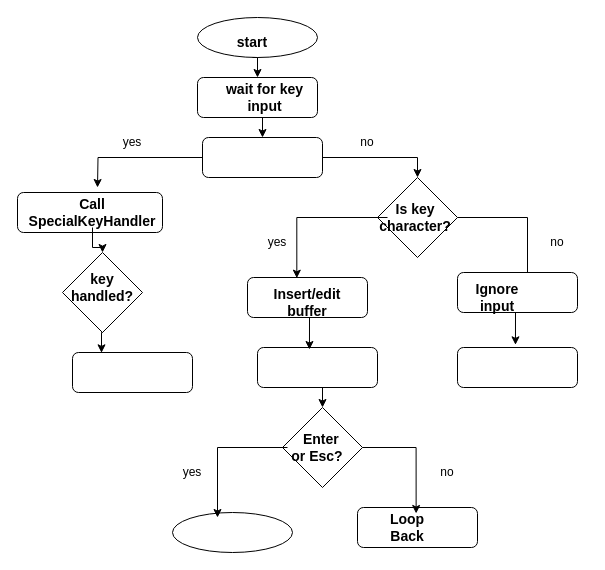
Image size: 605x570. Some labels were removed from this diagram. The centre of each missing label's shape, as x and y in pixels:
"(Back to wait)" belongs at (x=517, y=367).
"End" belongs at (x=232, y=532).
"is special key??" belongs at (x=262, y=157).
"return cmd" belongs at (x=132, y=372).
"Update display via renderer" belongs at (x=317, y=367).
